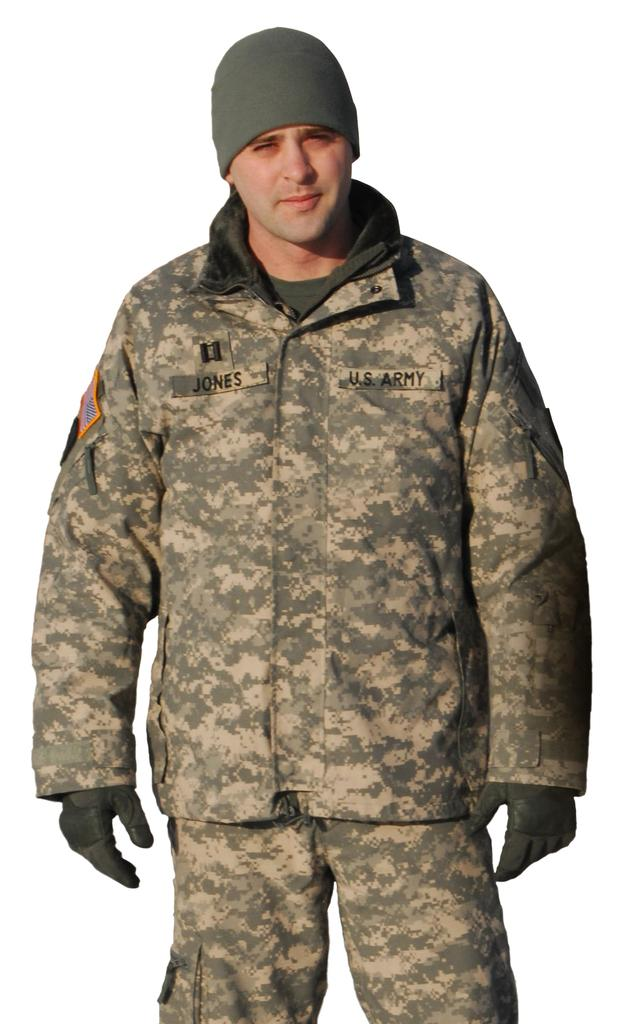Hat: (203, 22, 381, 215)
